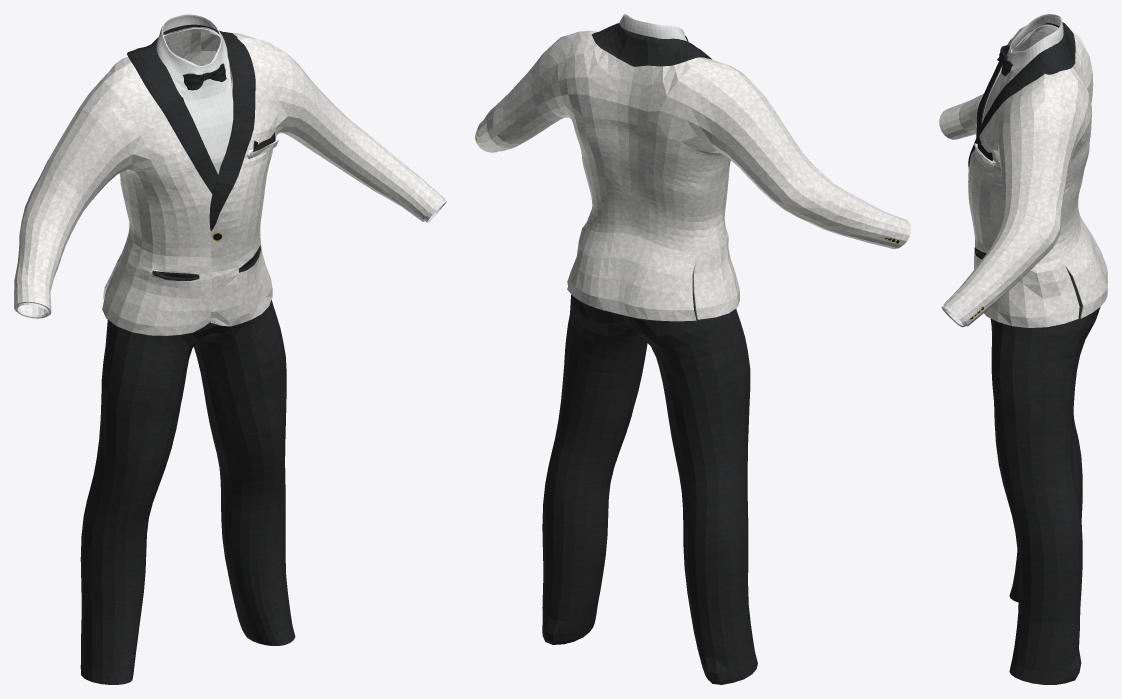
File: DinnerJacket.obj
3 views of the same model, side by side, from view 1: azimuth 30°, elevation 25°; view 2: azimuth 150°, elevation 25°; view 3: azimuth 270°, elevation 25° (orthographic). The views are drawn at different scales.
Parts seen in each view (by area): view 1: DinnerJacket; view 2: DinnerJacket; view 3: DinnerJacket.
Part boxes in pixels (x1,y1,x2,y2): DinnerJacket: [14, 14, 446, 684]; DinnerJacket: [475, 14, 910, 684]; DinnerJacket: [939, 14, 1107, 684].
Size of the model in its own units: 1.04 by 1.46 by 0.3614.
1 material, 1 textured.
